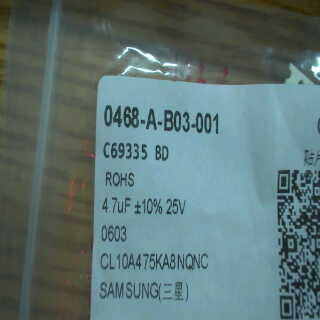4.7uF: (102, 194, 132, 217)
